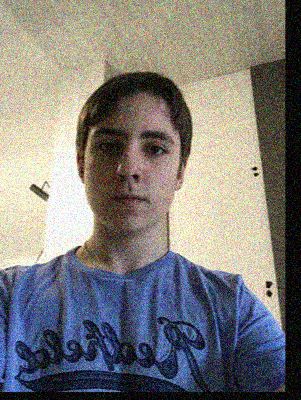without_mask: (83, 121, 178, 237)
